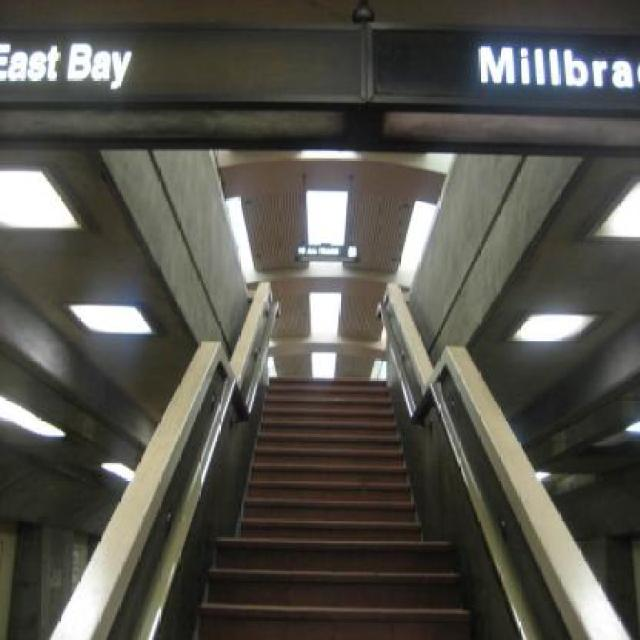stair: (197, 377, 471, 640)
